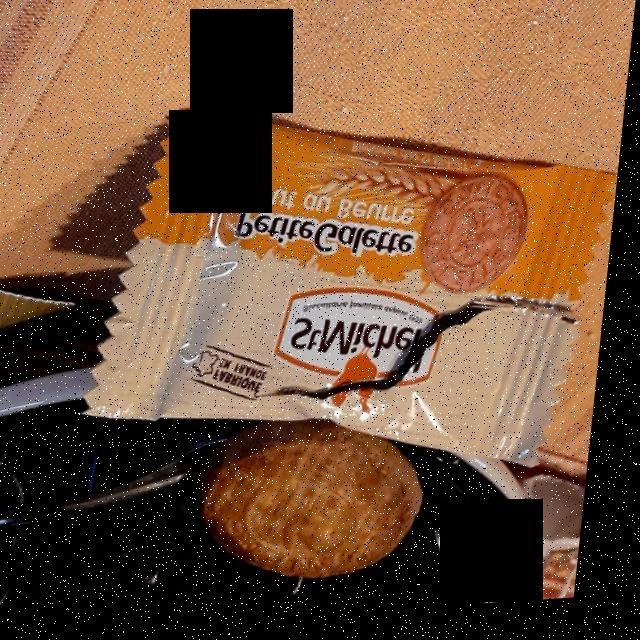biscuits: (215, 431, 427, 581)
